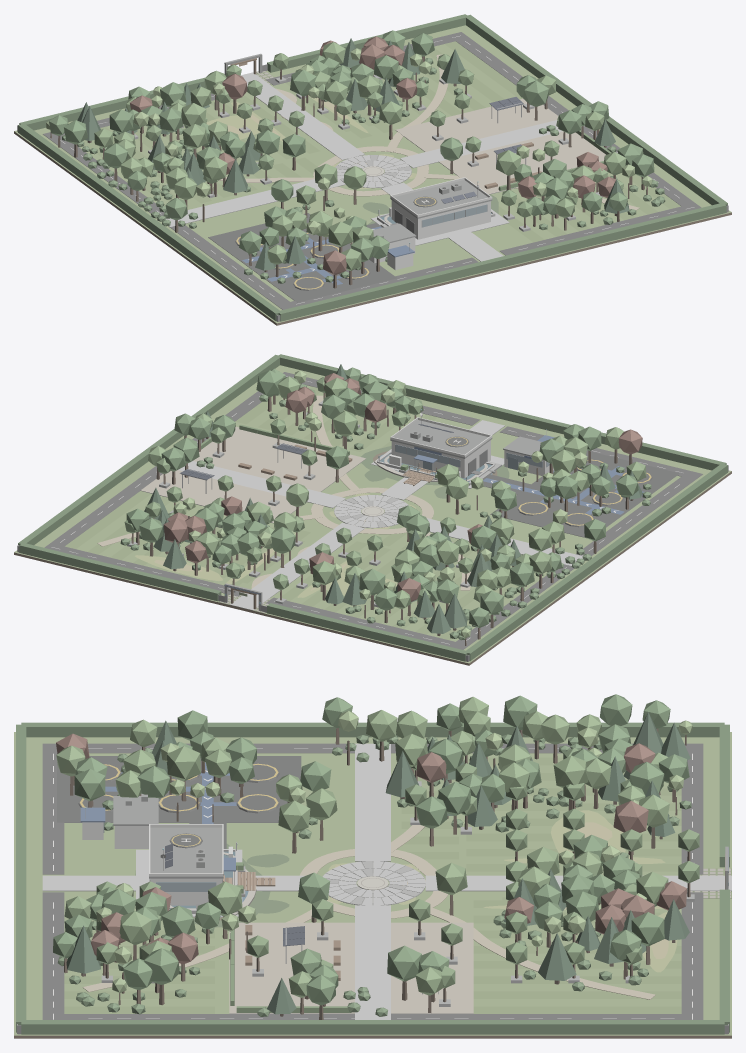
The model's file is Park_Levels_Model.fbx.
The picture shows the model from 3 angles, top to bottom: view 1: azimuth 30°, elevation 25°; view 2: azimuth 150°, elevation 25°; view 3: azimuth 270°, elevation 25°; orthographic projection. The views are drawn at different scales.
Visible parts, largest first — view 1: Model_Level_0, Model_Level_4, Model_Level_3, Model_Level_2, Model_Level_1; view 2: Model_Level_0, Model_Level_4, Model_Level_3, Model_Level_2, Model_Level_1; view 3: Model_Level_0, Model_Level_3, Model_Level_4, Model_Level_2, Model_Level_1.
Part boxes in pixels (<box>): Model_Level_0: <box>14,14,731,325</box>; Model_Level_4: <box>43,32,701,309</box>; Model_Level_3: <box>134,41,728,281</box>; Model_Level_2: <box>17,53,728,321</box>; Model_Level_1: <box>82,89,379,290</box>; Model_Level_0: <box>14,354,731,665</box>; Model_Level_4: <box>44,372,702,649</box>; Model_Level_3: <box>17,383,645,661</box>; Model_Level_2: <box>135,419,728,661</box>; Model_Level_1: <box>217,461,652,639</box>; Model_Level_0: <box>14,694,731,1038</box>; Model_Level_3: <box>17,736,728,1034</box>; Model_Level_4: <box>42,743,703,1019</box>; Model_Level_2: <box>17,756,731,1033</box>; Model_Level_1: <box>103,757,681,915</box>.
Bounding box in the file's own units: 100 × 9.29 × 100.
